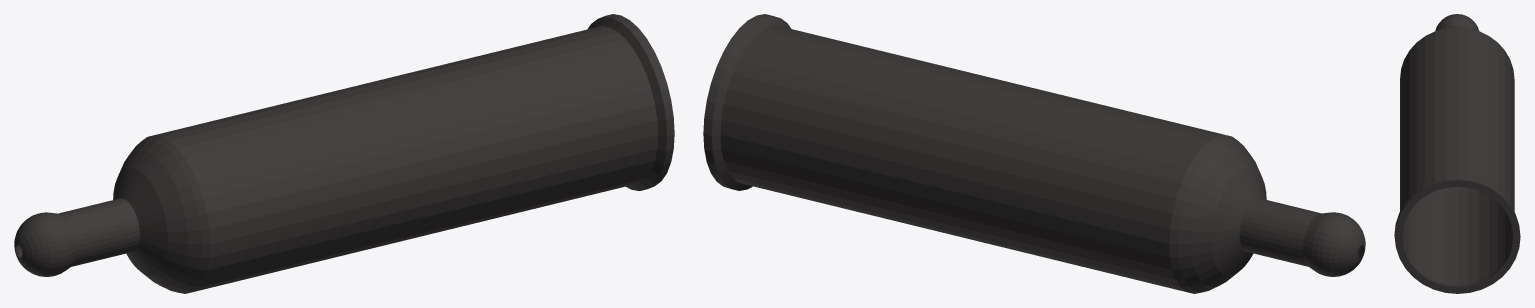
Rendered from CannonTurret.fbx.
3 views of the same model, side by side, from view 1: azimuth 30°, elevation 25°; view 2: azimuth 150°, elevation 25°; view 3: azimuth 270°, elevation 25° (orthographic). The views are drawn at different scales.
Parts seen in each view (by area): view 1: Cylinder; view 2: Cylinder; view 3: Cylinder.
Boxes of the visible parts, x1,y1,x2,y2 form: Cylinder: (14, 14, 674, 293); Cylinder: (703, 14, 1365, 293); Cylinder: (1394, 14, 1520, 293).
Size of the model in its own units: 493 by 125 by 125.
Materials: 1 (1 with a texture image).
